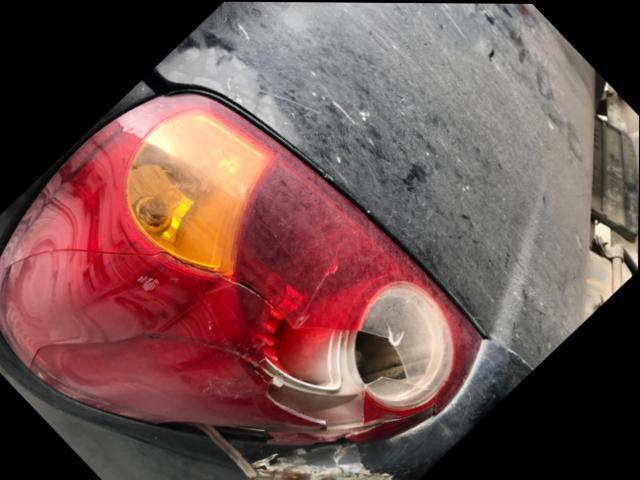lamp broken: (0, 90, 483, 445)
scratch: (248, 441, 395, 480)
